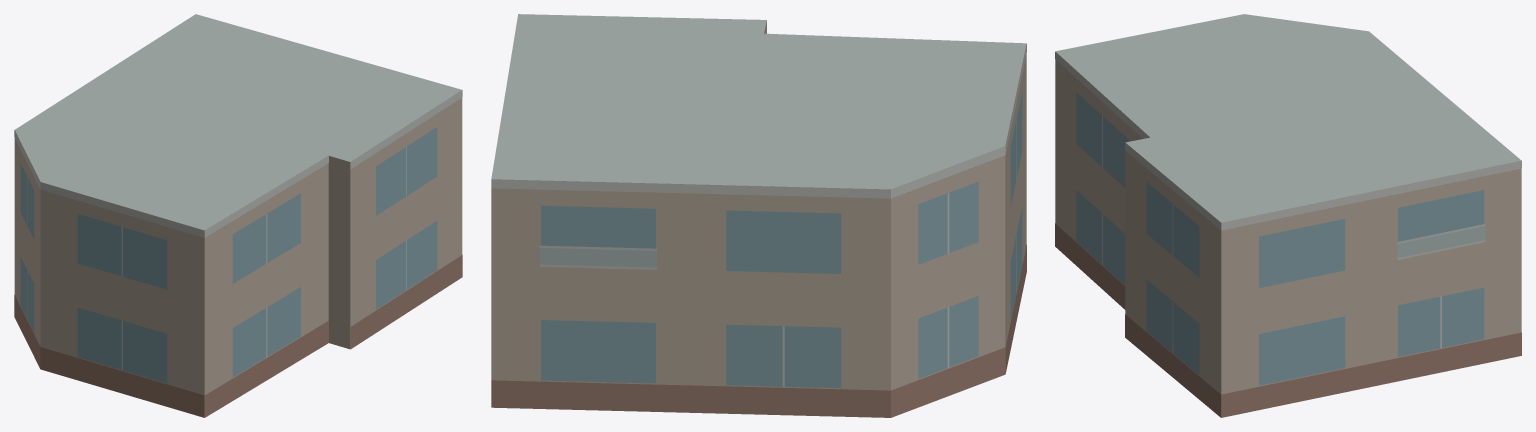
The model's file is survey-upis-32945407.glb.
3 renders of one model, left to right at view 1: azimuth 30°, elevation 25°; view 2: azimuth 150°, elevation 25°; view 3: azimuth 270°, elevation 25°, orthographic. The views are drawn at different scales.
Parts seen in each view (by area): view 1: survey-upis-32945407.tmp; view 2: survey-upis-32945407.tmp; view 3: survey-upis-32945407.tmp.
Boxes of the visible parts, x1,y1,x2,y2 form: survey-upis-32945407.tmp: (14,14,462,417); survey-upis-32945407.tmp: (491,14,1026,417); survey-upis-32945407.tmp: (1055,14,1521,417).
Bounding box in the file's own units: 14 × 6.1 × 13.23.
